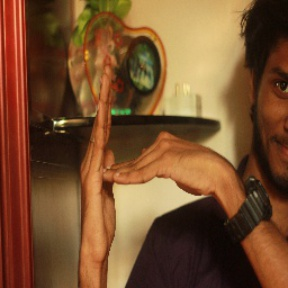Z: (66, 61, 221, 262)
